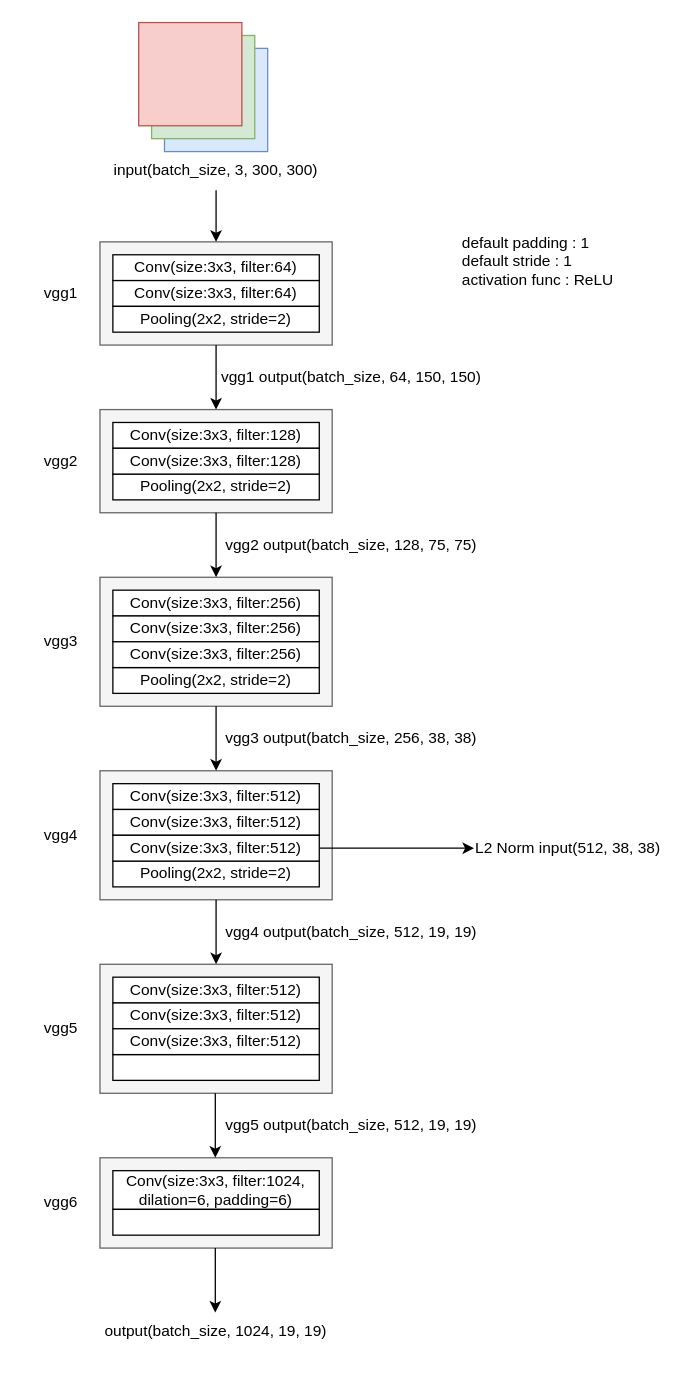
Some shapes in this 684 by 1374 pixel diagram are drawn without their labels. Each missing label, with the box of its shape:
Conv(size:1x1, filter:1024): (112, 1208, 319, 1235)
Pooling(3x3, stride=1): (112, 1053, 319, 1080)
